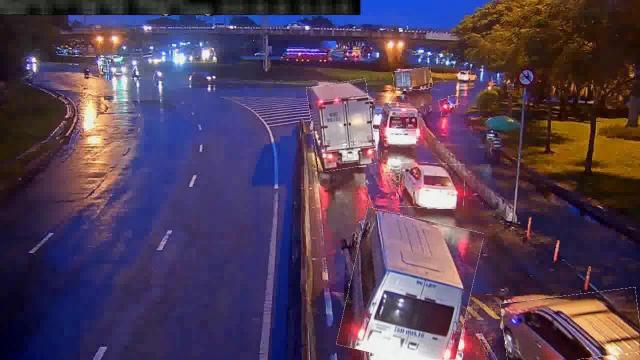Bike: (439, 100, 449, 116), (448, 95, 458, 105)
Bus: (343, 212, 477, 360)
Car: (502, 291, 640, 359), (399, 163, 465, 209)
Truck: (309, 80, 375, 170), (392, 68, 432, 90)
